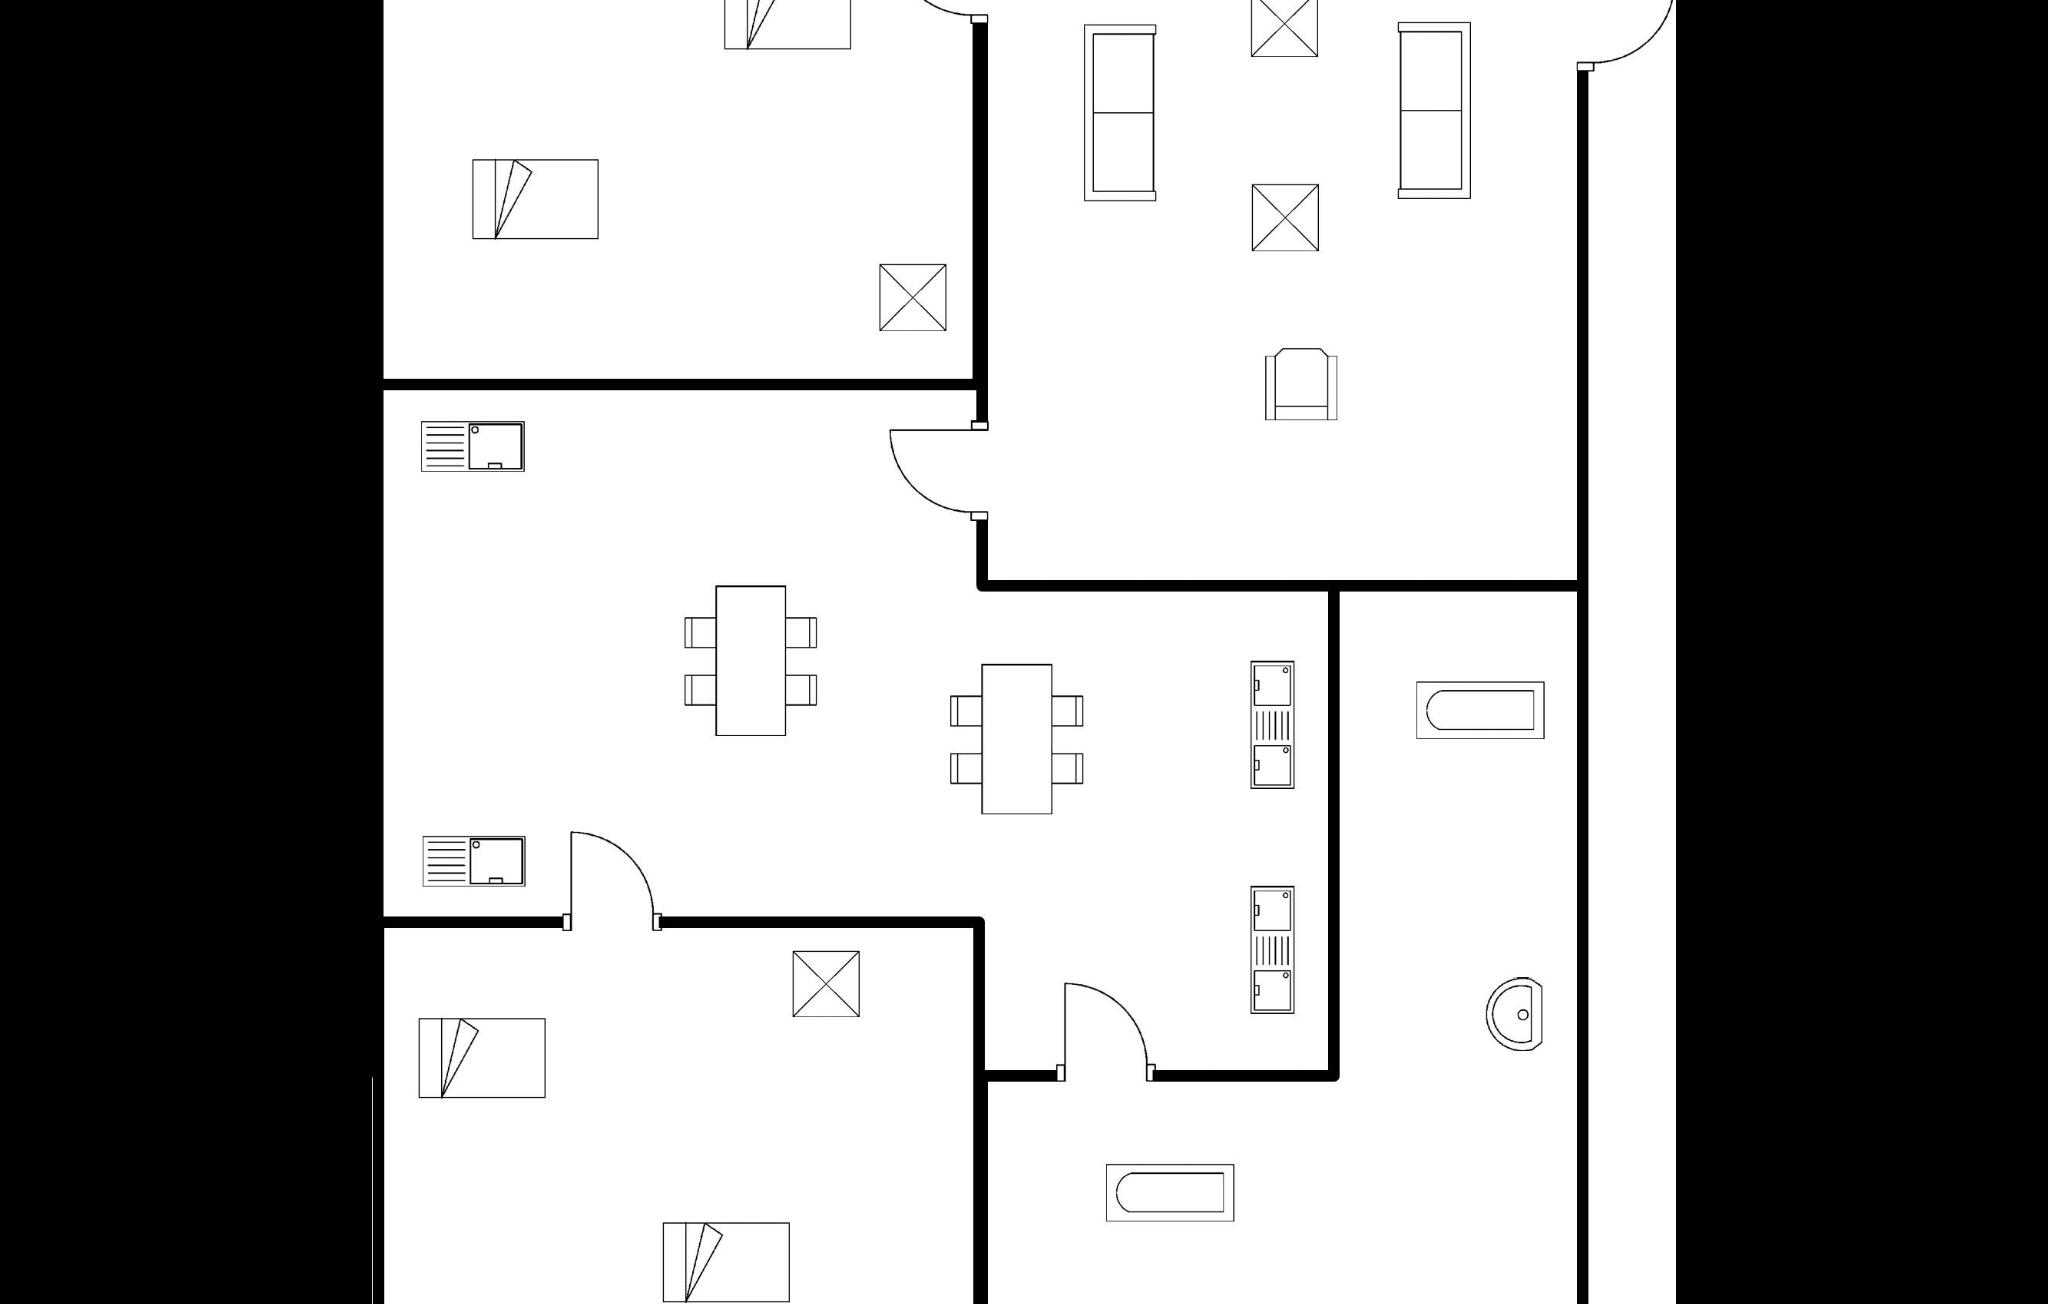sink: (1237, 646, 1308, 798), (1242, 871, 1305, 1024)
